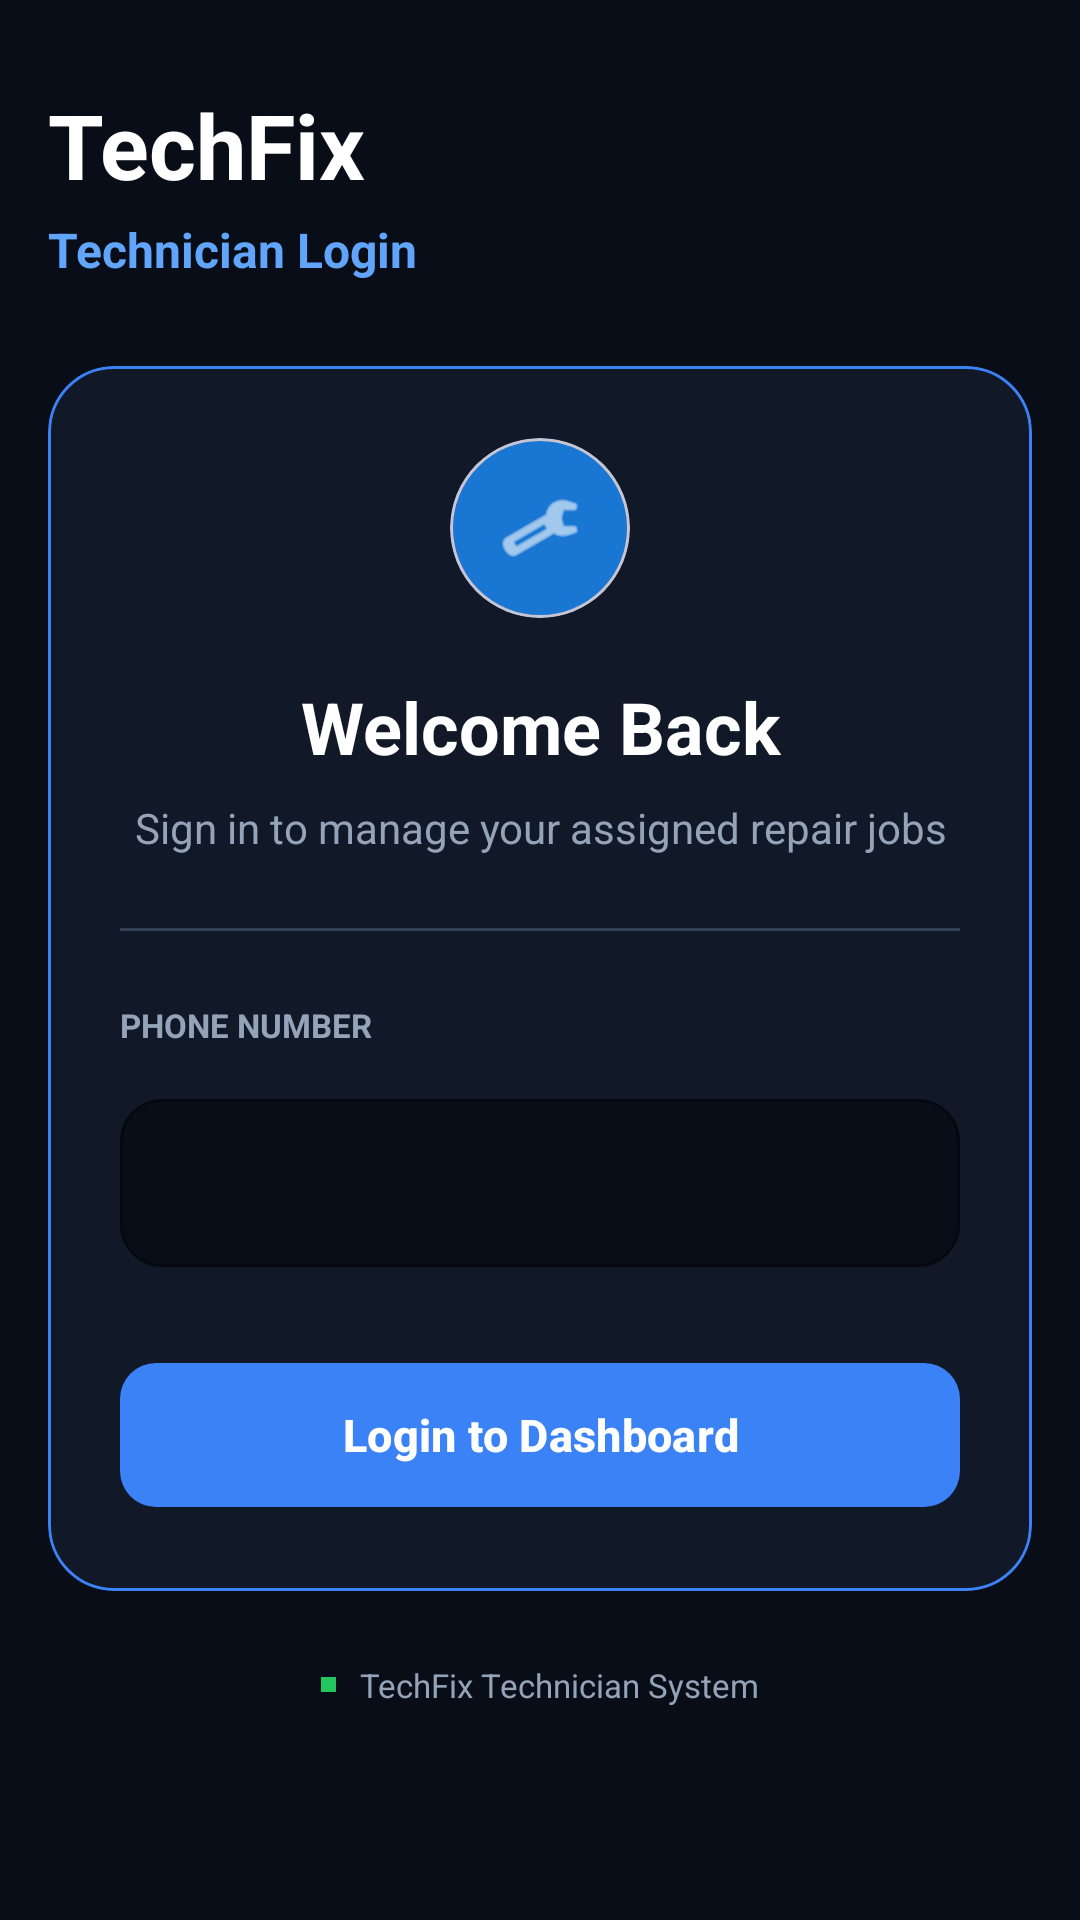

Where icons sit on this 1080px×1920px app screen, as (x1, y1, x2, y2):
Technician Login: (502, 499, 578, 557)
